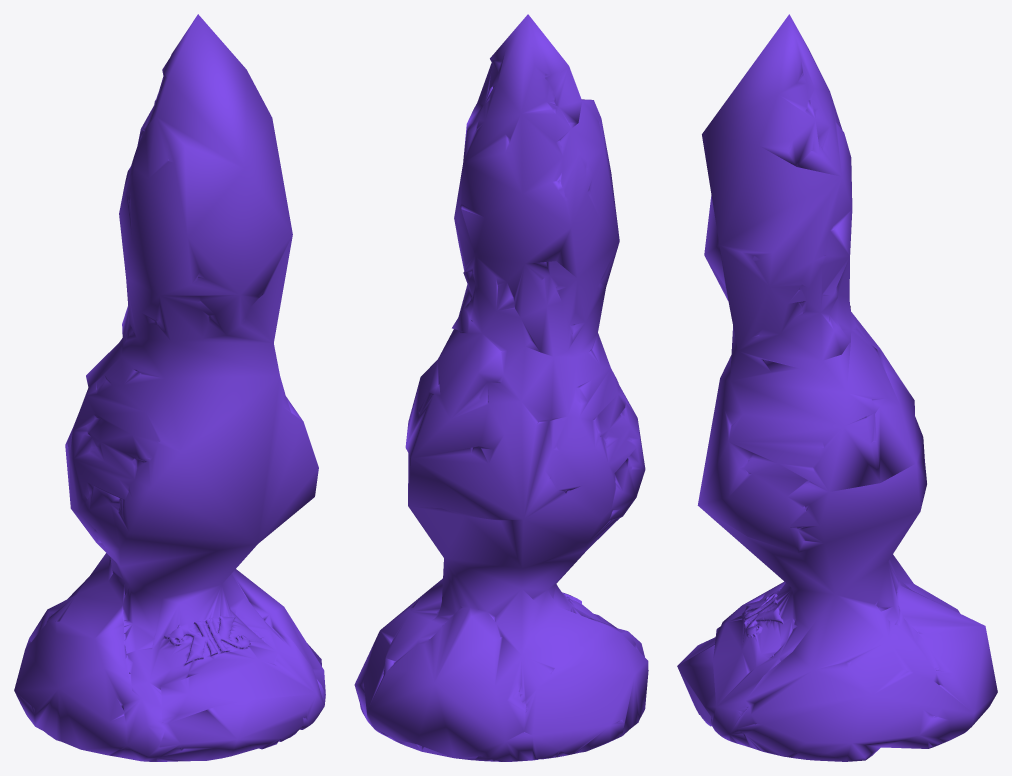
The model's file is xlarge-suction-ar.glb.
3 views of the same model, side by side, from view 1: azimuth 30°, elevation 25°; view 2: azimuth 150°, elevation 25°; view 3: azimuth 270°, elevation 25° (orthographic). The views are drawn at different scales.
Bounding box in the file's own units: 0.1234 × 0.3069 × 0.1301.
